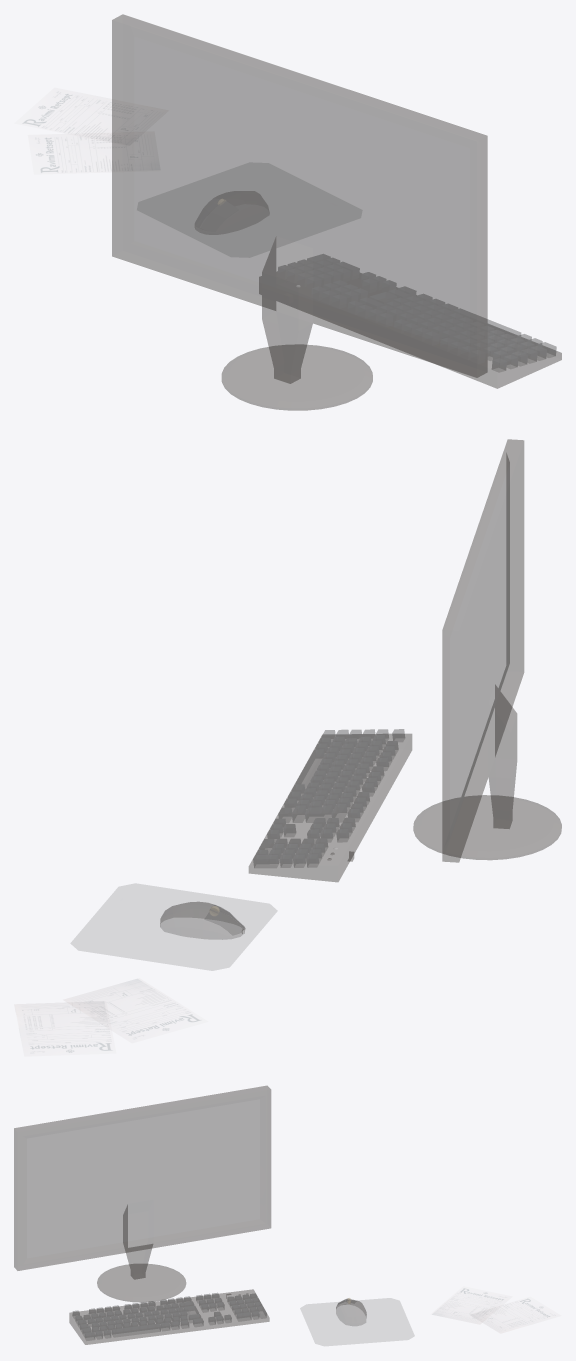
File: desktop2.fbx
The picture shows the model from 3 angles, top to bottom: view 1: azimuth 30°, elevation 25°; view 2: azimuth 150°, elevation 25°; view 3: azimuth 270°, elevation 25°; orthographic projection. The views are drawn at different scales.
Visible parts, largest first — view 1: PC_Monitor, PC_Keyboard, Paper, PC_Mouse; view 2: PC_Monitor, PC_Keyboard, Mousepad, Paper, PC_Mouse; view 3: PC_Monitor, PC_Keyboard, Mousepad, Paper, PC_Mouse.
Boxes of the visible parts, x1=… form: PC_Monitor: x1=112, y1=14, x2=487, y2=410; PC_Keyboard: x1=259, y1=254, x2=561, y2=388; Paper: x1=15, y1=88, x2=144, y2=173; PC_Mouse: x1=195, y1=191, x2=269, y2=231; PC_Monitor: x1=413, y1=439, x2=561, y2=862; PC_Keyboard: x1=249, y1=729, x2=411, y2=881; Mousepad: x1=71, y1=884, x2=276, y2=970; Paper: x1=15, y1=978, x2=207, y2=1055; PC_Mouse: x1=160, y1=902, x2=245, y2=939; PC_Monitor: x1=14, y1=1086, x2=270, y2=1302; PC_Keyboard: x1=69, y1=1289, x2=269, y2=1344; Mousepad: x1=300, y1=1298, x2=414, y2=1345; Paper: x1=432, y1=1287, x2=560, y2=1332; PC_Mouse: x1=336, y1=1298, x2=366, y2=1325.
Bounding box in the file's own units: 125 × 120 × 338.
